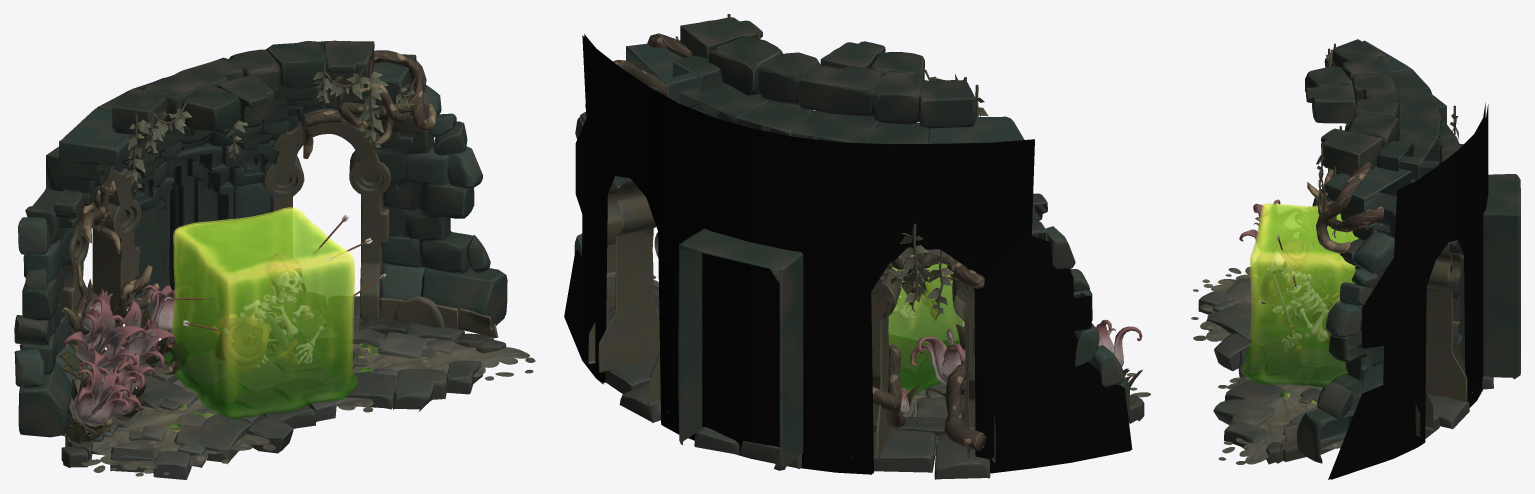
The picture shows the model from 3 angles, left to right: view 1: azimuth 30°, elevation 25°; view 2: azimuth 150°, elevation 25°; view 3: azimuth 270°, elevation 25°; orthographic projection. The views are drawn at different scales.
Parts seen in each view (by area): view 1: arch, polySurface2, polySurface325, plants1, dirt, group2, weapons1, Ivy_Small1, skeleton, temp_groundfog:pCube195; view 2: pCylinderdsfsdgsdg2, arch, group2, polySurface2, polySurface325, plants1, Ivy_Small1, pCylinderdsfsdgsdg1; view 3: arch, pCylinderdsfsdgsdg2, polySurface2, polySurface325, dirt, group2, weapons1, skeleton, pCylinderdsfsdgsdg1, Ivy_Small1, temp_groundfog:pCube195, plants1.
Boxes of the visible parts, x1,y1,x2,y2 form: arch: [14, 40, 507, 479]; polySurface2: [165, 207, 358, 419]; polySurface325: [167, 209, 356, 418]; plants1: [59, 279, 176, 443]; dirt: [62, 338, 535, 476]; group2: [19, 50, 435, 426]; weapons1: [164, 215, 386, 372]; Ivy_Small1: [44, 60, 415, 191]; skeleton: [220, 271, 323, 367]; temp_groundfog:pCube195: [127, 319, 472, 437]; pCylinderdsfsdgsdg2: [564, 35, 1130, 474]; arch: [574, 17, 1144, 479]; group2: [613, 33, 986, 450]; polySurface2: [888, 254, 964, 397]; polySurface325: [888, 255, 962, 393]; plants1: [900, 319, 1142, 413]; Ivy_Small1: [675, 14, 988, 319]; pCylinderdsfsdgsdg1: [577, 34, 1132, 473]; arch: [1198, 39, 1520, 464]; pCylinderdsfsdgsdg2: [1331, 104, 1488, 479]; polySurface2: [1242, 203, 1358, 387]; polySurface325: [1244, 205, 1358, 386]; dirt: [1191, 267, 1347, 464]; group2: [1307, 162, 1384, 287]; weapons1: [1259, 235, 1340, 351]; skeleton: [1267, 252, 1329, 351]; pCylinderdsfsdgsdg1: [1328, 103, 1485, 479]; Ivy_Small1: [1316, 43, 1459, 237]; temp_groundfog:pCube195: [1236, 283, 1317, 427]; plants1: [1239, 199, 1330, 300].
Bounding box in the file's own units: 18.04 × 11.15 × 11.75.
Materials: 15 (13 with a texture image).
